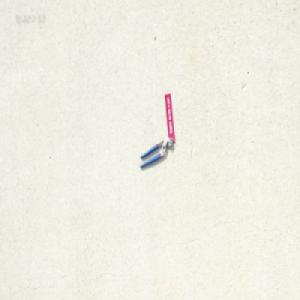Label: (164, 92, 175, 141)
Pliers: (138, 136, 172, 169)
